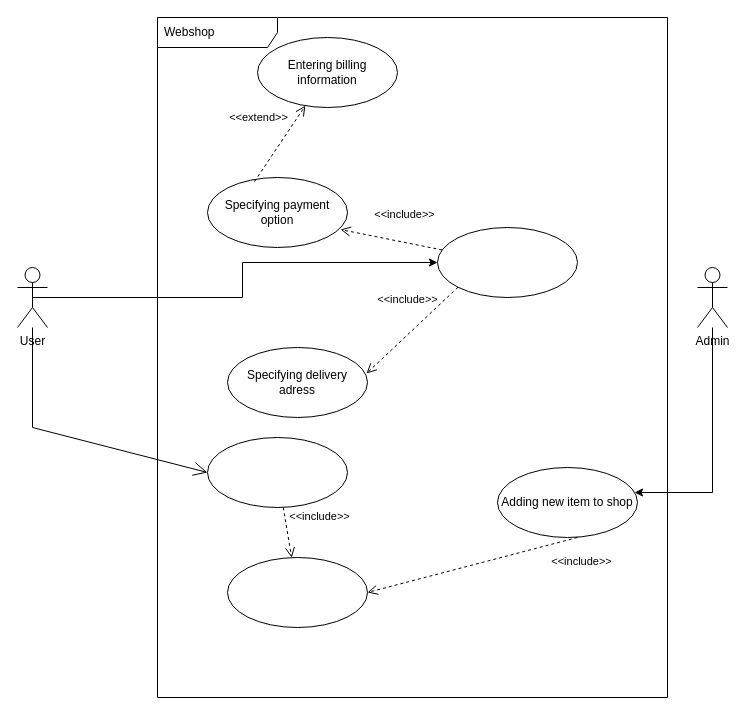
Some shapes in this 747 by 715 pixel diagram are drawn without their labels. The centre of each missing label's shape, as x and y in pixels:
"Browsing through items" belongs at [277,472].
"Buying an item" belongs at [507,262].
"Selecting productcategory" belongs at [297,592].
